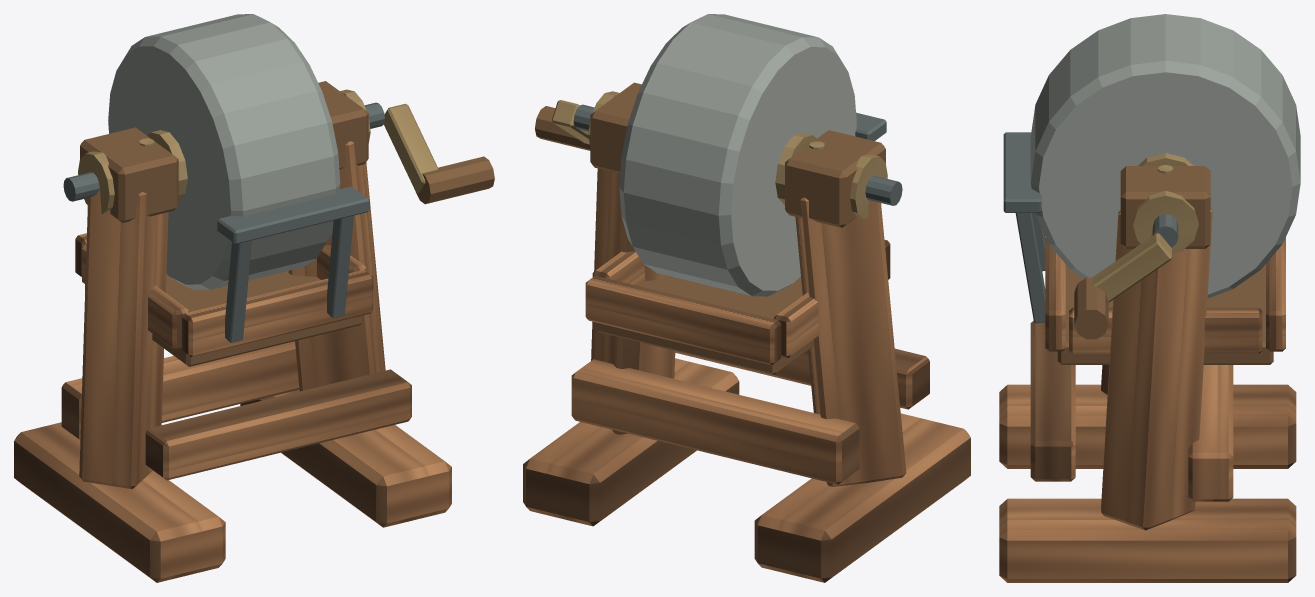
The model's file is grindstone.glb.
3 renders of one model, left to right at view 1: azimuth 30°, elevation 25°; view 2: azimuth 150°, elevation 25°; view 3: azimuth 270°, elevation 25°, orthographic. The views are drawn at different scales.
Visible parts, largest first — view 1: Grindstone_StaticFrame, Grindstone_Grindstone_Rotation; view 2: Grindstone_StaticFrame, Grindstone_Grindstone_Rotation; view 3: Grindstone_StaticFrame, Grindstone_Grindstone_Rotation.
Part boxes in pixels (box(x1,y1,x2,y2)): Grindstone_StaticFrame: box(14, 81, 451, 582); Grindstone_Grindstone_Rotation: box(63, 14, 494, 290); Grindstone_StaticFrame: box(523, 82, 970, 582); Grindstone_Grindstone_Rotation: box(535, 14, 902, 296); Grindstone_StaticFrame: box(999, 132, 1296, 582); Grindstone_Grindstone_Rotation: box(1030, 14, 1300, 339).
Bounding box in the file's own units: 1.01 × 1.16 × 0.67.
Materials: 6 (2 with a texture image).
